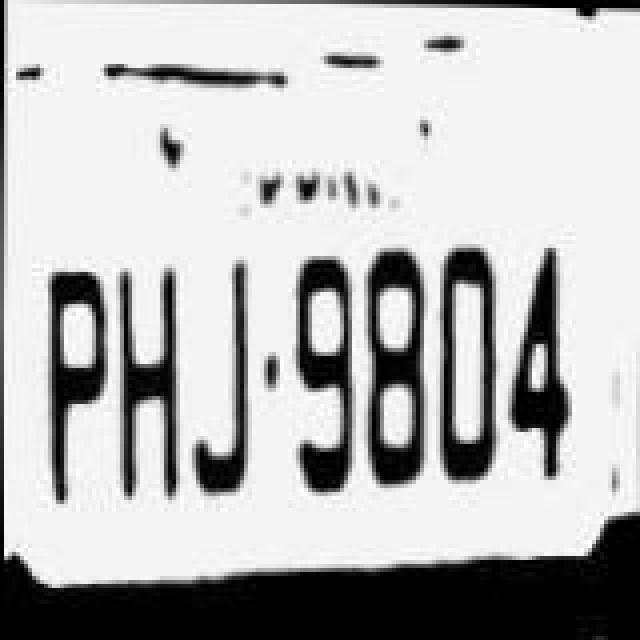4: (500, 244, 576, 508)
8: (358, 234, 430, 510)
9: (286, 240, 358, 508)
H: (110, 252, 186, 508)
J: (184, 252, 264, 516)
O: (432, 232, 508, 496)
P: (30, 254, 114, 522)
